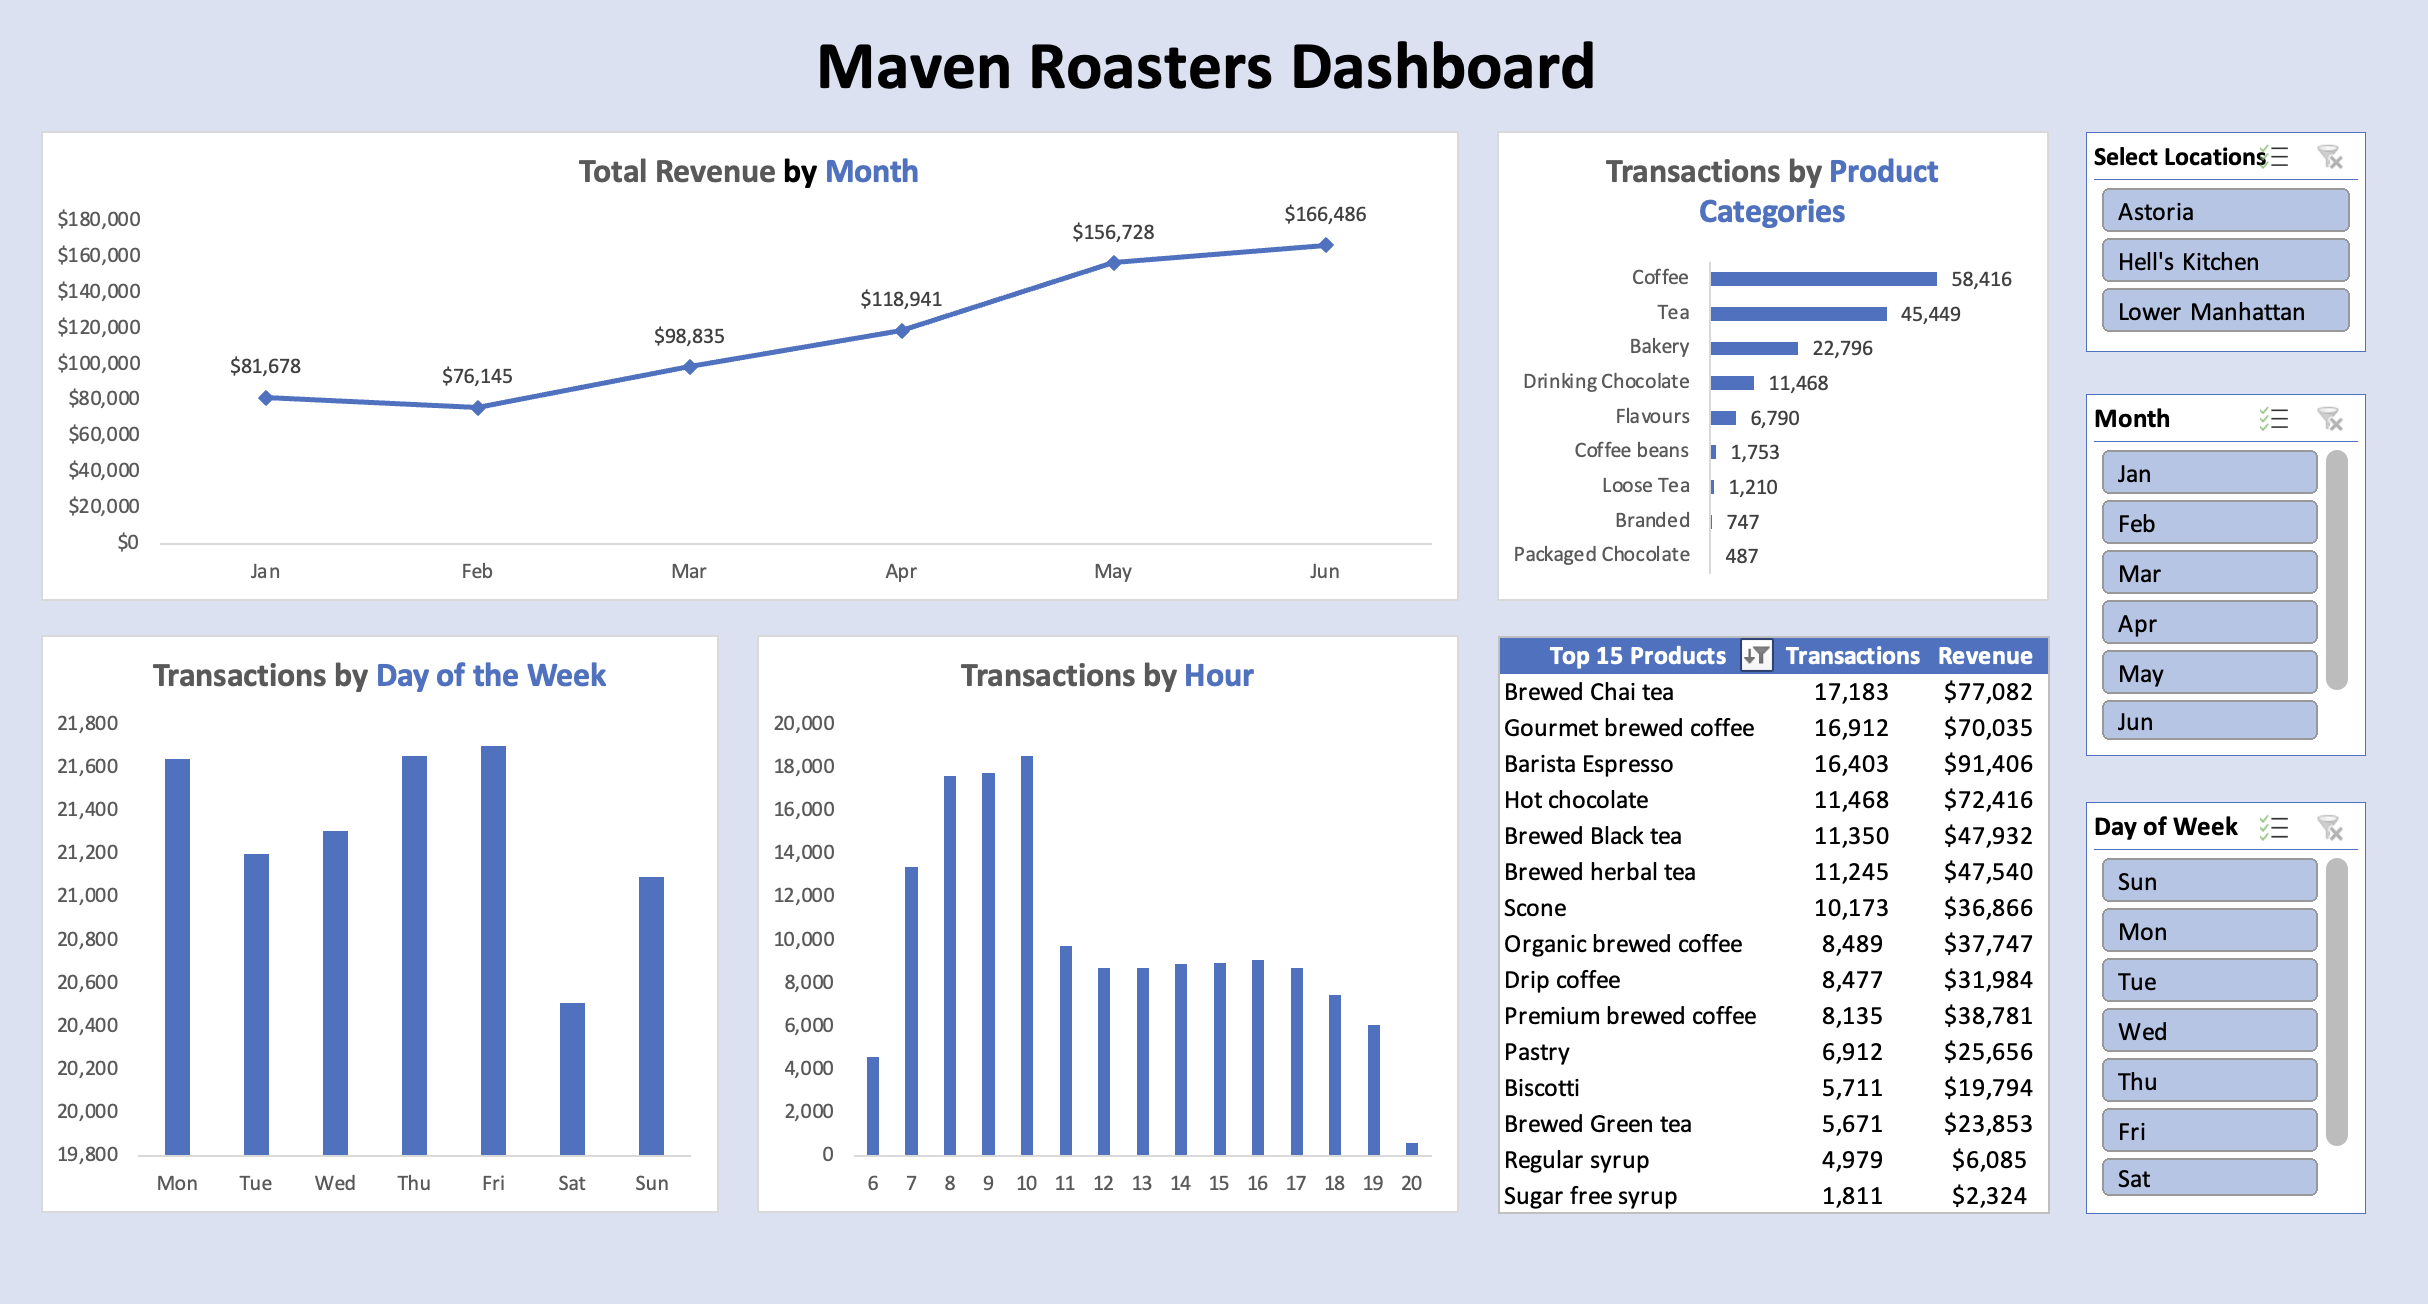

Layout of this report page (visuals, bound fields, positions):
{"tool":"tableau","page":{"name":"Dashboard","canvas":[1000,1200],"ordinal":0},"visuals":[{"type":"blank","box":[20,3,957,156]},{"type":"filter","title":"Revenue by Month","param":"[federated.13cqoe00jxof5g1cjx9hq1e0kwgb].[none:store_location:nk]","box":[807,8,160,98]},{"type":"text","box":[177,26.6,566,75.4]},{"type":"dashboard-object","box":[810,123,149,24]},{"type":"worksheet","title":"Revenue by Month","mark":"Automatic","rows":["Calculation_1132092367373725696"],"cols":["transaction_date"],"box":[18,177,959,284]},{"type":"worksheet","title":"Tx by Day","mark":"Bar","rows":["Transactions_46286EC82C074D39A8DFE32EF6961C46"],"cols":["transaction_date"],"box":[21,481,463,340]},{"type":"worksheet","title":"Tx by Hour","mark":"Bar","rows":["Transactions_46286EC82C074D39A8DFE32EF6961C46"],"cols":["transaction_time"],"box":[519,481,456,338]},{"type":"worksheet","title":"Tx by Prod Cat","mark":"Bar","rows":["product_category"],"cols":["Transactions_46286EC82C074D39A8DFE32EF6961C46"],"box":[17,839,464,344]},{"type":"worksheet","title":"Top 15 Products","mark":"Automatic","rows":["product_type"],"box":[520,840,463,345]}]}

Visuals, with their boxes on the page's 1000x1200 design canvas (x1, y1, x2, y2). These are canvas units, not pixel positions in the 2428x1304 screenshot, which may show the page scaled, cropped or inside an application window:
blank: pyautogui.locateOnScreen(20, 3, 977, 159)
"Revenue by Month" filter: pyautogui.locateOnScreen(807, 8, 967, 106)
text: pyautogui.locateOnScreen(177, 27, 743, 102)
dashboard-object: pyautogui.locateOnScreen(810, 123, 959, 147)
"Revenue by Month" worksheet: pyautogui.locateOnScreen(18, 177, 977, 461)
"Tx by Day" worksheet (Bar marks): pyautogui.locateOnScreen(21, 481, 484, 821)
"Tx by Hour" worksheet (Bar marks): pyautogui.locateOnScreen(519, 481, 975, 819)
"Tx by Prod Cat" worksheet (Bar marks): pyautogui.locateOnScreen(17, 839, 481, 1183)
"Top 15 Products" worksheet: pyautogui.locateOnScreen(520, 840, 983, 1185)
